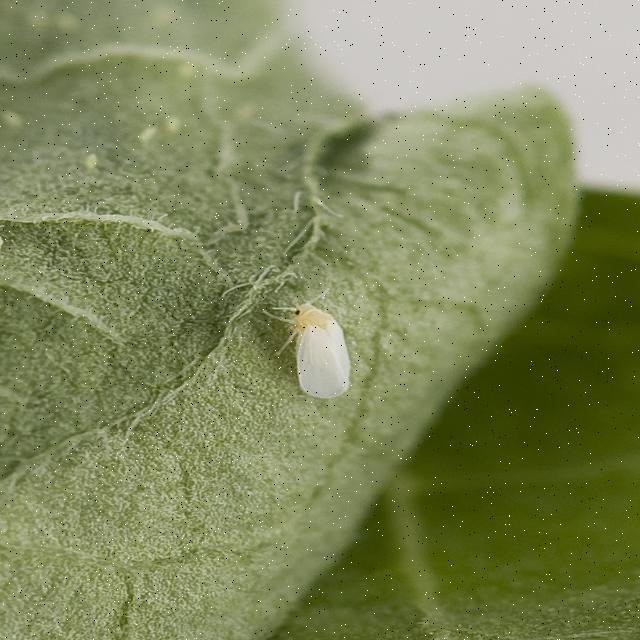Whiteflies: (232, 267, 383, 389)
